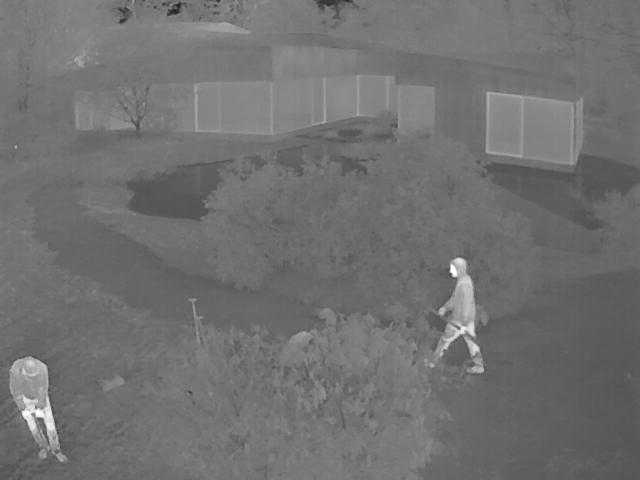person: (429, 257, 488, 372), (12, 355, 72, 462)
